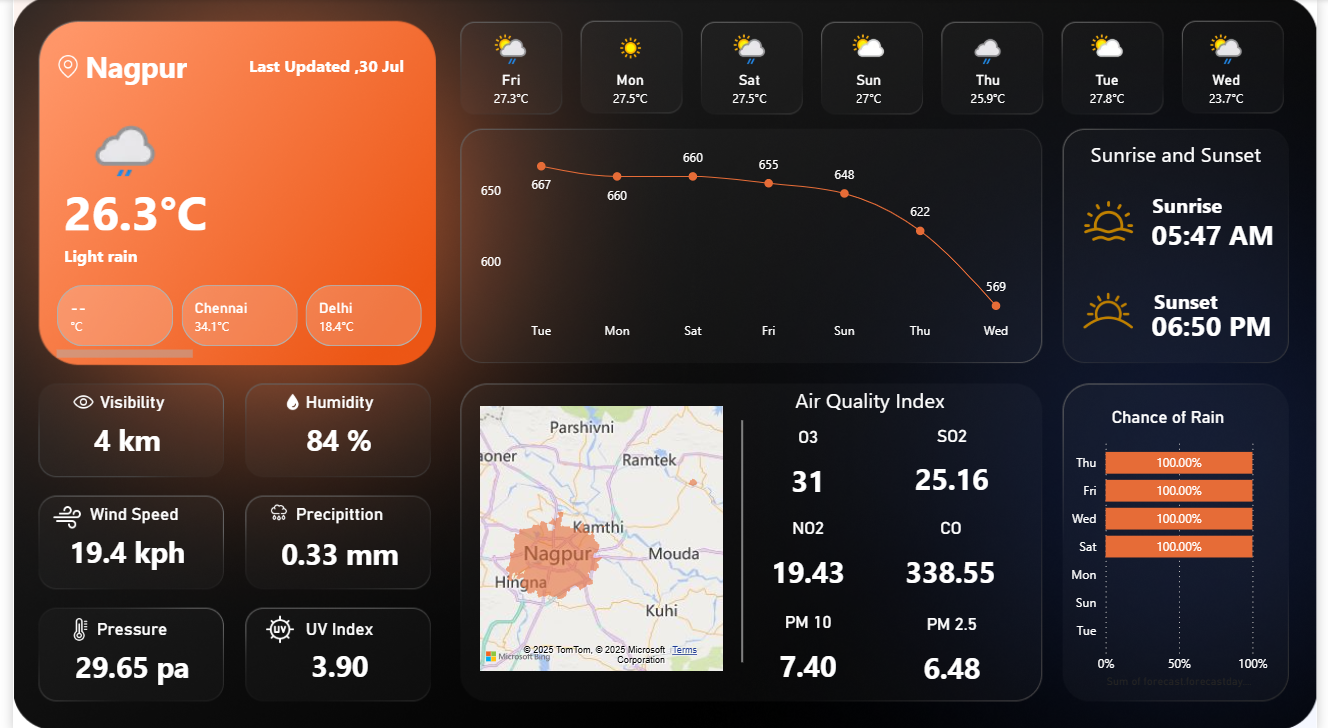

This screenshot's page, from the dashboard's own definition file:
{"tool":"powerbi","page":{"name":"Page 1","canvas":[1280,720],"ordinal":0},"visuals":[{"type":"advancedSlicerVisual","fields":{"Values":["Locations.location.name"]},"box":[38,276.1,370.6,83.4],"z":0},{"type":"cardVisual","fields":{"Data":["Table.Curr_temp_c"]},"box":[33.2,151.9,264.2,80.4],"z":1000},{"type":"cardVisual","fields":{"Data":["Min(current.current.condition.text)"]},"box":[33.2,215.7,370.2,61.3],"z":2000},{"type":"cardVisual","fields":{"Data":["_measure.Last_updated_curr"]},"box":[215.3,29.5,198.4,83],"z":3000},{"type":"cardVisual","fields":{"Data":["Min(current.location.name)"]},"box":[53.5,22.5,199.8,83],"z":4000},{"type":"image","box":[38,45,32.4,40.8],"z":5000},{"type":"cardVisual","fields":{"Data":["Min(current.current.condition.icon)"]},"box":[33.2,85.5,135.3,93.2],"z":6000},{"type":"cardVisual","title":"Visibility","fields":{"Data":["_measure.Last_updated_curr"]},"box":[57.4,385.5,118.7,26.8],"z":7000},{"type":"cardVisual","title":"Humidity","fields":{"Data":["_measure.Last_updated_curr"]},"box":[261.7,385.5,118.7,26.8],"z":8000},{"type":"cardVisual","title":"Wind Speed","fields":{"Data":["_measure.Last_updated_curr"]},"box":[57.4,495.3,122.5,20.4],"z":9000},{"type":"cardVisual","title":"Precipittion","fields":{"Data":["_measure.Last_updated_curr"]},"box":[261.7,495.3,118.7,26.8],"z":10000},{"type":"cardVisual","title":"Pressure","fields":{"Data":["_measure.Last_updated_curr"]},"box":[57.4,608.9,118.7,26.8],"z":11000},{"type":"cardVisual","title":"UV Index","fields":{"Data":["_measure.Last_updated_curr"]},"box":[261.7,608.9,118.7,19.1],"z":12000},{"type":"image","box":[49.8,601.2,31.9,34.5],"z":13000},{"type":"image","box":[261.7,379.1,26.8,33.2],"z":14000},{"type":"image","box":[242.5,598.6,38.3,39.6],"z":15000},{"type":"image","box":[33.2,490.1,39.6,38.3],"z":16000},{"type":"image","box":[52.3,379.1,33.2,33.2],"z":17000},{"type":"image","box":[246.4,490.1,29.4,29.4],"z":18000},{"type":"cardVisual","fields":{"Data":["_measure.Wind_speed"]},"box":[33.2,495.3,158.3,85.5],"z":19000},{"type":"cardVisual","fields":{"Data":["_measure.humidity"]},"box":[261.7,385.5,117.4,85.5],"z":20000},{"type":"cardVisual","fields":{"Data":["_measure.Visibility"]},"box":[33.2,385.5,158.3,85.5],"z":21000},{"type":"cardVisual","fields":{"Data":["_measure.Precipitation"]},"box":[241.2,496.5,158.3,85.5],"z":22000},{"type":"cardVisual","fields":{"Data":["_measure.Pressure"]},"box":[38.3,608.9,158.3,85.5],"z":23000},{"type":"cardVisual","fields":{"Data":["_measure.uv"]},"box":[241.2,607.6,158.3,85.5],"z":24000},{"type":"advancedSlicerVisual","fields":{"Values":["forecast_day.day_name"]},"box":[428.9,23,824.6,90.6],"z":25000},{"type":"lineChart","fields":{"Category":["forecast_day.day_name"],"Y":["Sum(forecast_day.forecast.forecastday.day.avgtemp_c)"]},"box":[454.4,132.2,545.9,211],"z":26000},{"type":"shape","box":[1041.1,136.5,199.8,31],"z":27000},{"type":"cardVisual","fields":{"Data":["Min(forecast_day.Sunset)"]},"box":[1100.2,277.2,159,76],"z":28000},{"type":"cardVisual","fields":{"Data":["Min(forecast_day.Sunrise)"]},"box":[1100.2,187.1,163.2,71.8],"z":29000},{"type":"shape","box":[1100.2,187.1,104.1,28.1],"z":30000},{"type":"shape","box":[1104.4,277.2,94.3,38],"z":31000},{"type":"image","box":[1031.3,268.7,88.6,74.6],"z":32000},{"type":"image","box":[1031.3,188.5,90,57.7],"z":33000},{"type":"hundredPercentStackedBarChart","title":"Chance of Rain","fields":{"Category":["forecast_day.day_name"],"Y":["Sum(forecast_day.forecast.forecastday.day.daily_chance_of_rain)"]},"box":[1030.7,400,206.1,281],"z":34000},{"type":"shape","box":[740,374.2,202.6,38],"z":35000},{"type":"cardVisual","title":"SO2","fields":{"Data":["Sum(current.current.air_quality.so2)"]},"box":[842.7,417.9,157.6,77.4],"z":36000},{"type":"cardVisual","title":"O3","fields":{"Data":["Sum(current.current.air_quality.o3)"]},"box":[702,419.3,157.6,77.4],"z":37000},{"type":"cardVisual","title":"CO","fields":{"Data":["Sum(current.current.air_quality.co)"]},"box":[841.3,509.3,157.6,77.4],"z":38000},{"type":"cardVisual","title":"NO2","fields":{"Data":["Sum(current.current.air_quality.no2)"]},"box":[702,509.3,157.6,77.4],"z":39000},{"type":"cardVisual","title":"PM 10","fields":{"Data":["Sum(current.current.air_quality.pm10)"]},"box":[702,600.7,157.6,77.4],"z":40000},{"type":"cardVisual","title":"PM 2.5","fields":{"Data":["Sum(current.current.air_quality.pm2_5)"]},"box":[842.7,603.6,157.6,77.4],"z":41000},{"type":"shape","box":[640.1,413.6,150.5,237.8],"z":42000},{"type":"filledMap","fields":{"Category":["Locations.location.name"]},"box":[454.4,395.3,247.6,270.1],"z":43000}]}

Visuals, with their boxes in screenshot pixels (x1, y1, x2, y2), scaled from the page's 1280x720 canvas onto the 1328x728 screenshot:
advancedSlicerVisual - Locations.location.name: bbox(39, 279, 424, 363)
cardVisual - Table.Curr_temp_c: bbox(34, 154, 309, 235)
cardVisual - Min(current.current.condition.text): bbox(34, 218, 419, 280)
cardVisual - _measure.Last_updated_curr: bbox(223, 30, 429, 114)
cardVisual - Min(current.location.name): bbox(56, 23, 263, 107)
image: bbox(39, 46, 73, 87)
cardVisual - Min(current.current.condition.icon): bbox(34, 86, 175, 181)
"Visibility" cardVisual: bbox(60, 390, 183, 417)
"Humidity" cardVisual: bbox(272, 390, 395, 417)
"Wind Speed" cardVisual: bbox(60, 501, 187, 521)
"Precipittion" cardVisual: bbox(272, 501, 395, 528)
"Pressure" cardVisual: bbox(60, 616, 183, 643)
"UV Index" cardVisual: bbox(272, 616, 395, 635)
image: bbox(52, 608, 85, 643)
image: bbox(272, 383, 299, 417)
image: bbox(252, 605, 291, 645)
image: bbox(34, 496, 76, 534)
image: bbox(54, 383, 89, 417)
image: bbox(256, 496, 286, 525)
cardVisual - _measure.Wind_speed: bbox(34, 501, 199, 587)
cardVisual - _measure.humidity: bbox(272, 390, 393, 476)
cardVisual - _measure.Visibility: bbox(34, 390, 199, 476)
cardVisual - _measure.Precipitation: bbox(250, 502, 414, 588)
cardVisual - _measure.Pressure: bbox(40, 616, 204, 702)
cardVisual - _measure.uv: bbox(250, 614, 414, 701)
advancedSlicerVisual - forecast_day.day_name: bbox(445, 23, 1301, 115)
lineChart - forecast_day.day_name x Sum(forecast_day.forecast.forecastday.day.avgtemp_c): bbox(471, 134, 1038, 347)
shape: bbox(1080, 138, 1287, 169)
cardVisual - Min(forecast_day.Sunset): bbox(1141, 280, 1306, 357)
cardVisual - Min(forecast_day.Sunrise): bbox(1141, 189, 1311, 262)
shape: bbox(1141, 189, 1249, 218)
shape: bbox(1146, 280, 1244, 319)
image: bbox(1070, 272, 1162, 347)
image: bbox(1070, 191, 1163, 249)
"Chance of Rain" hundredPercentStackedBarChart: bbox(1069, 404, 1283, 689)
shape: bbox(768, 378, 978, 417)
"SO2" cardVisual: bbox(874, 423, 1038, 501)
"O3" cardVisual: bbox(728, 424, 892, 502)
"CO" cardVisual: bbox(873, 515, 1036, 593)
"NO2" cardVisual: bbox(728, 515, 892, 593)
"PM 10" cardVisual: bbox(728, 607, 892, 686)
"PM 2.5" cardVisual: bbox(874, 610, 1038, 689)
shape: bbox(664, 418, 820, 659)
filledMap - Locations.location.name: bbox(471, 400, 728, 673)
